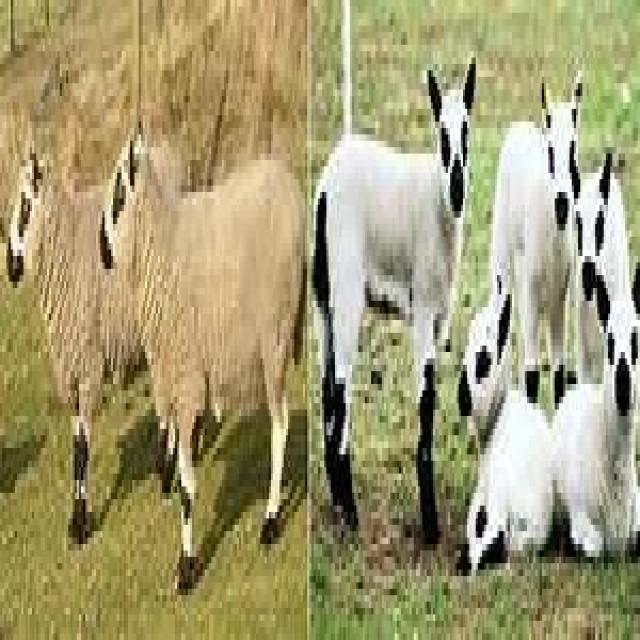animal: (96, 115, 307, 589), (309, 51, 476, 544), (4, 146, 98, 559), (454, 288, 552, 576), (492, 88, 578, 394), (554, 266, 640, 554), (572, 148, 631, 372)
